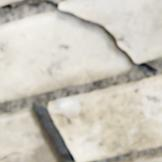brick: (49, 75, 161, 161), (0, 107, 62, 161), (114, 152, 161, 161), (0, 0, 19, 5)
broken_brick: (0, 11, 131, 101), (60, 0, 161, 61)
crack: (1, 0, 161, 72), (0, 151, 22, 159)
